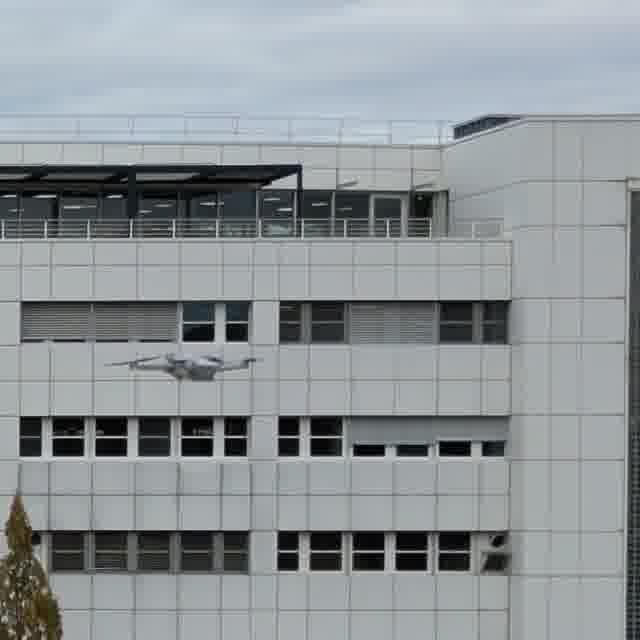Drohne: (105, 352, 260, 381)
